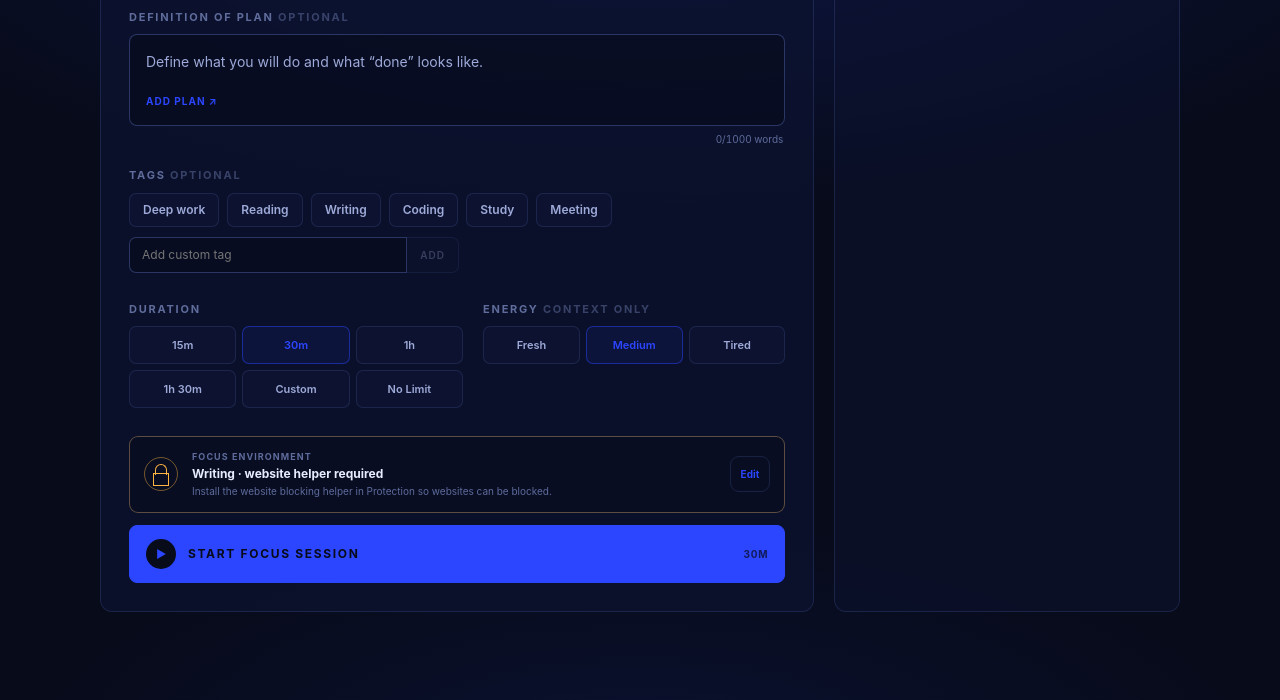
it: SessionIntentScreen › protection activation at session start › does not claim every safeguard is absent when only website enforcement is incomplete
(page scrolled)
Click the button "▶ Start focus session 30m" at (274, 554), box [129,525,785,583]
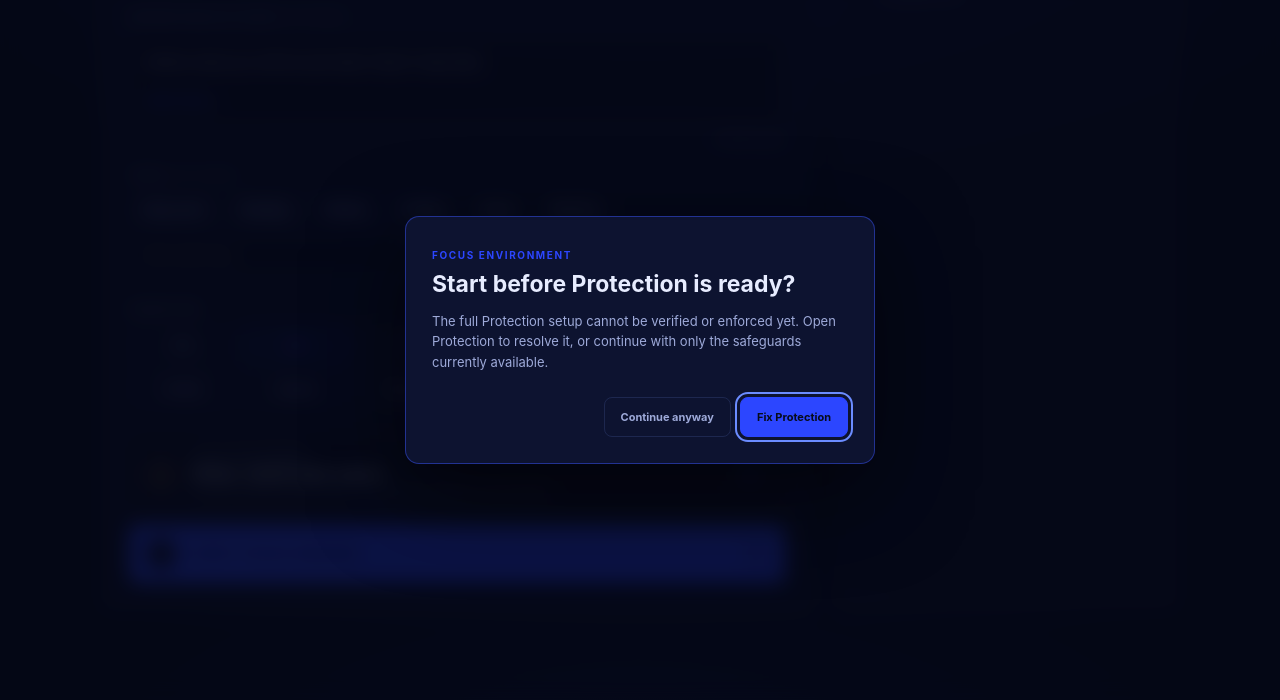
Check: the text "full Protection setup cannot be verified or enforced" is shown, box [432,313,836,370]
Check: the button "Continue anyway" is shown, box [604,397,731,437]
